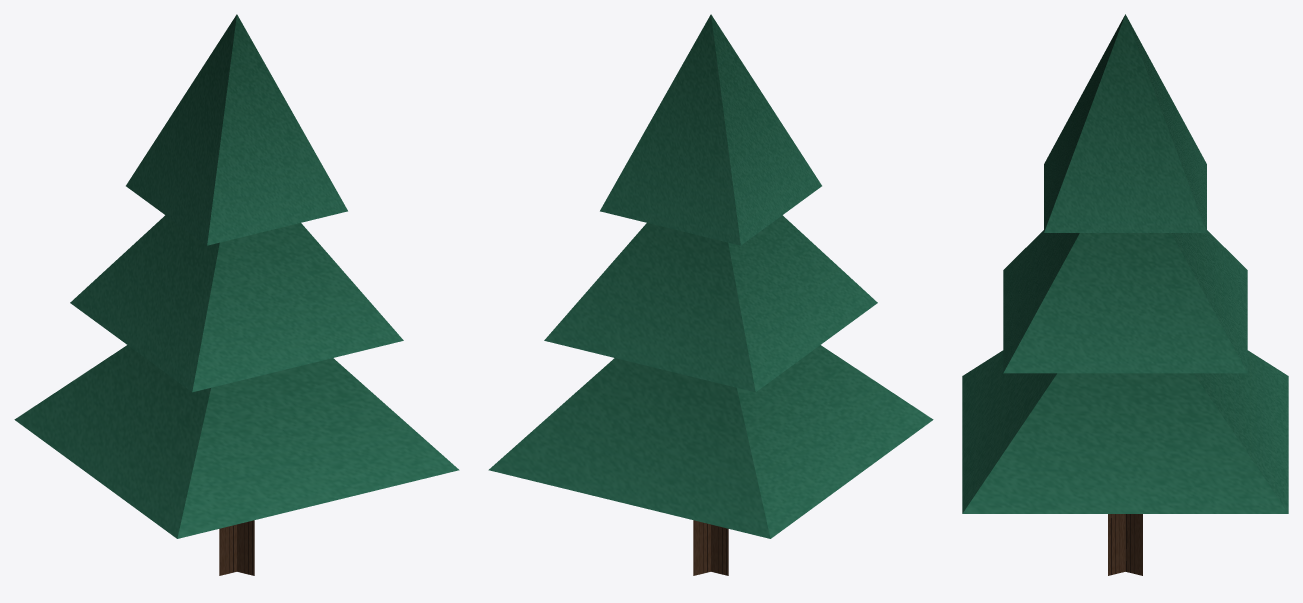
The model's file is tree_conifer_pine.gltf.
3 views of the same model, side by side, from view 1: azimuth 30°, elevation 25°; view 2: azimuth 150°, elevation 25°; view 3: azimuth 270°, elevation 25° (orthographic).
Parts seen in each view (by area): view 1: tree_conifer_pine; view 2: tree_conifer_pine; view 3: tree_conifer_pine.
Boxes of the visible parts, x1=… form: tree_conifer_pine: x1=14, y1=14, x2=459, y2=575; tree_conifer_pine: x1=488, y1=14, x2=933, y2=575; tree_conifer_pine: x1=962, y1=14, x2=1288, y2=575.
Size of the model in its own units: 4.8 by 9.2 by 4.8.
1 material, 1 textured.
